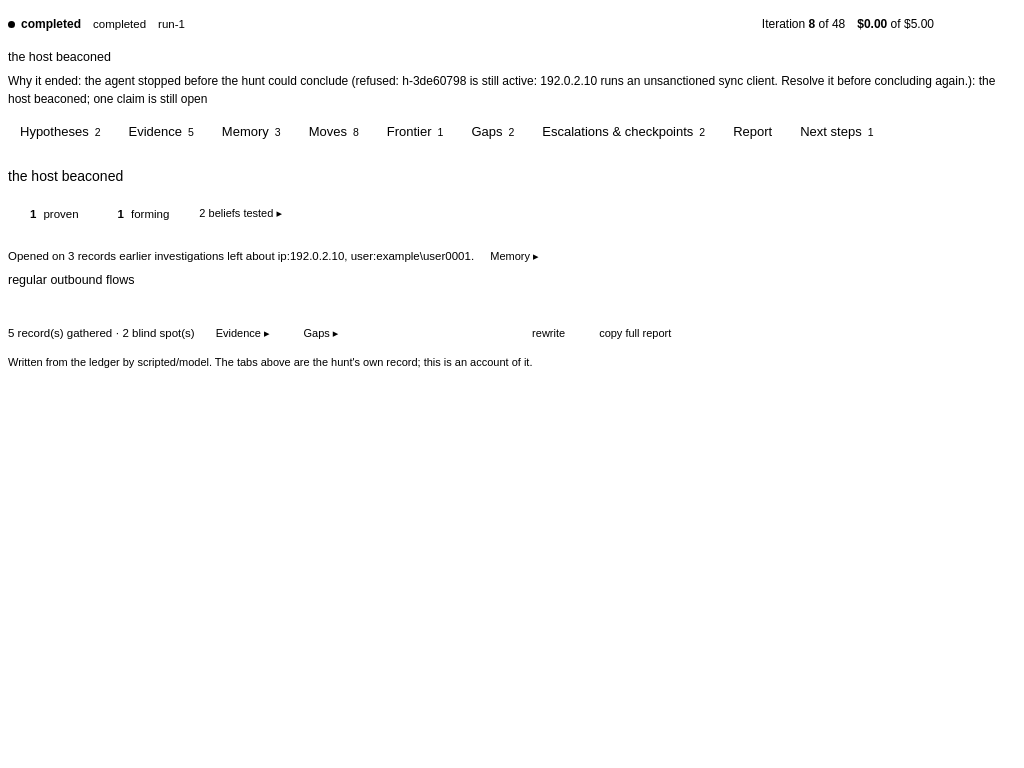
Test case: a hunt run on the kernel › lists its moves, and opens what a move was made against without breaking
The image size is (1024, 768).
Click the tab "Moves8": (334,132) [297,118,371,145]
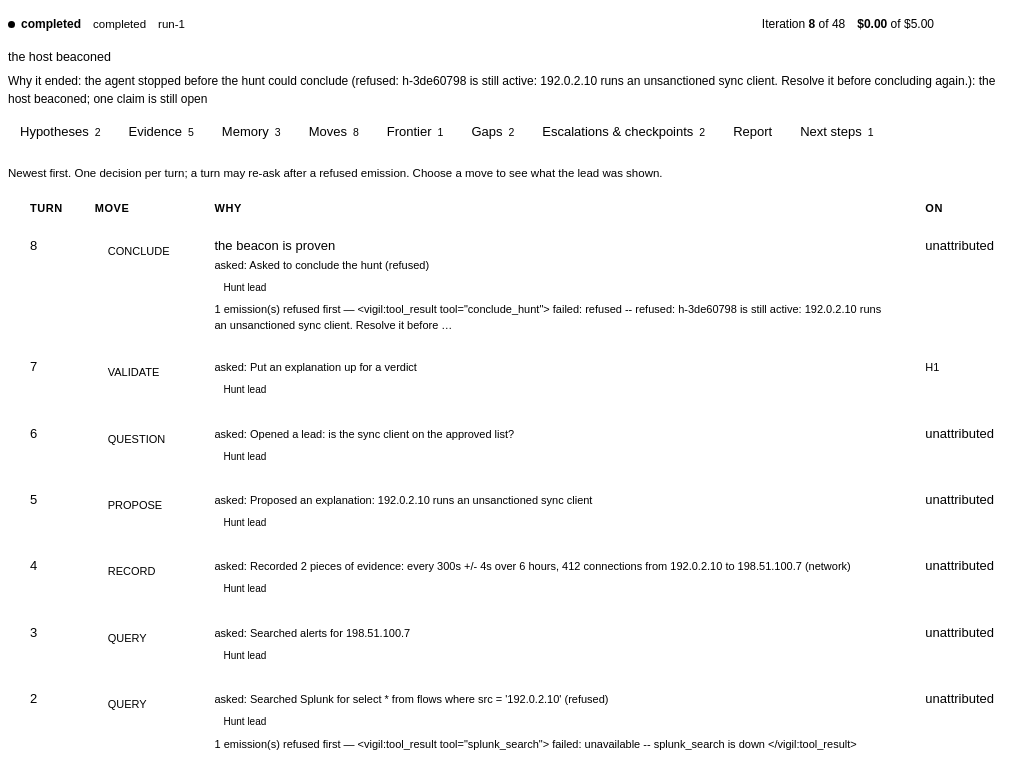
Expected: the button "VALIDATE" is shown, [95,358,172,386]
Click the text "the beacon is proven": (275,246) [198,225,909,346]
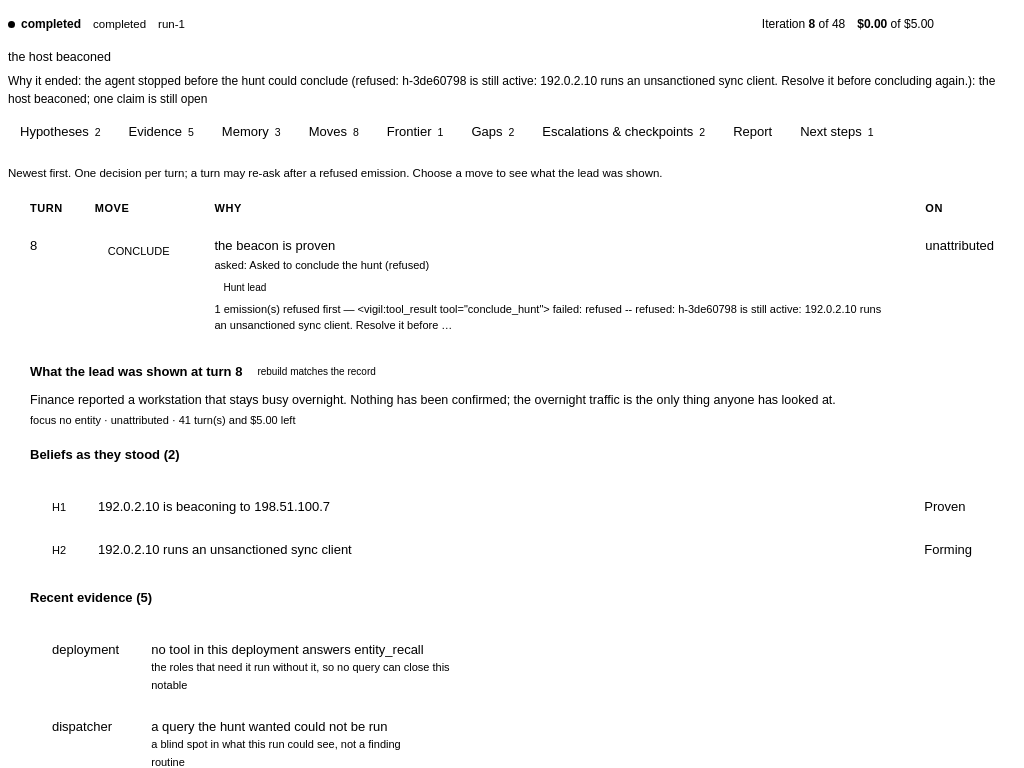
Expected: the text "runs an unsanctioned sync client" is shown, [8,74,995,106]
Expected: the heading "What the lead was shown at turn 8" is shown, [30,363,242,382]
Expected: the text "rebuild matches the record" is shown, [257,366,376,377]
